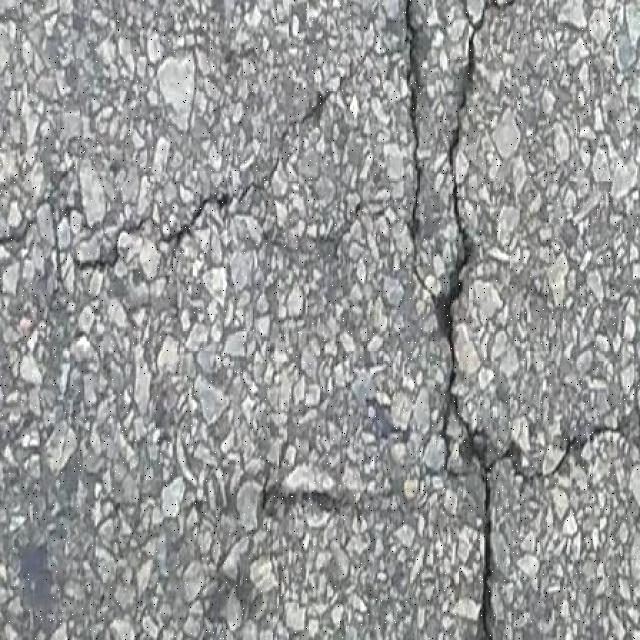Crack: (408, 0, 628, 639), (74, 91, 330, 268), (0, 221, 36, 244), (405, 0, 415, 77), (634, 384, 640, 433)
